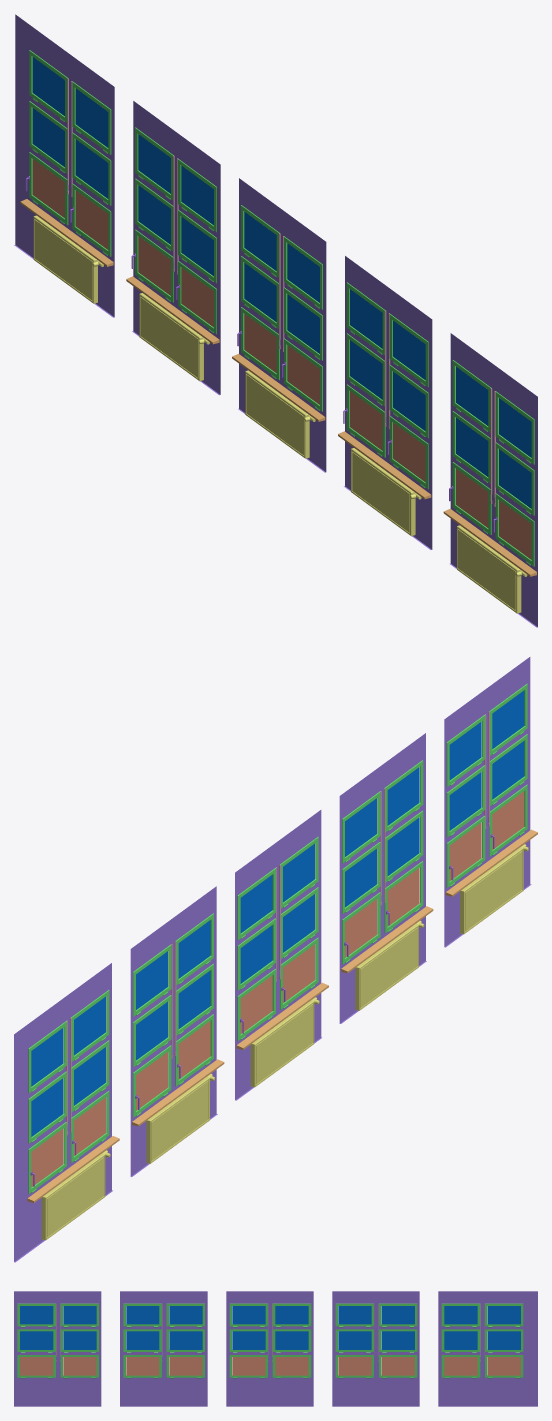
File: windowWallA.fbx
3 views of the same model, one above another, from view 1: azimuth 30°, elevation 25°; view 2: azimuth 150°, elevation 25°; view 3: azimuth 270°, elevation 25° (orthographic). The views are drawn at different scales.
Parts seen in each view (by area): view 1: windowWallA; view 2: windowWallA; view 3: windowWallA.
Boxes of the visible parts, <box> form: windowWallA: <box>14,14,537,627</box>; windowWallA: <box>14,657,537,1262</box>; windowWallA: <box>14,1291,537,1406</box>.
Bounding box in the file's own units: 14.01 × 296 × 1218.
